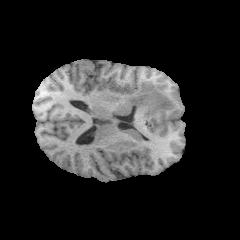glioma: (125, 81, 174, 116)
